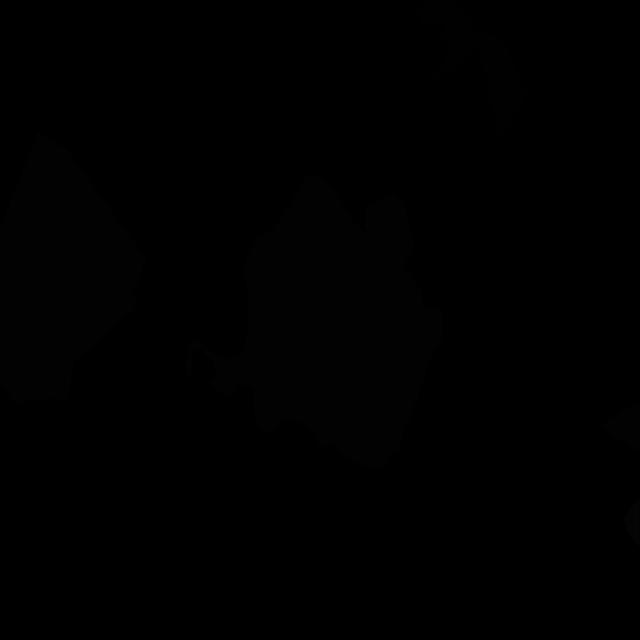cardboard: (185, 192, 414, 397), (0, 131, 148, 404), (252, 266, 443, 471), (242, 174, 365, 352), (600, 399, 640, 452)
rigid_plastic: (412, 0, 528, 136)
soft_plastic: (624, 499, 640, 548)
